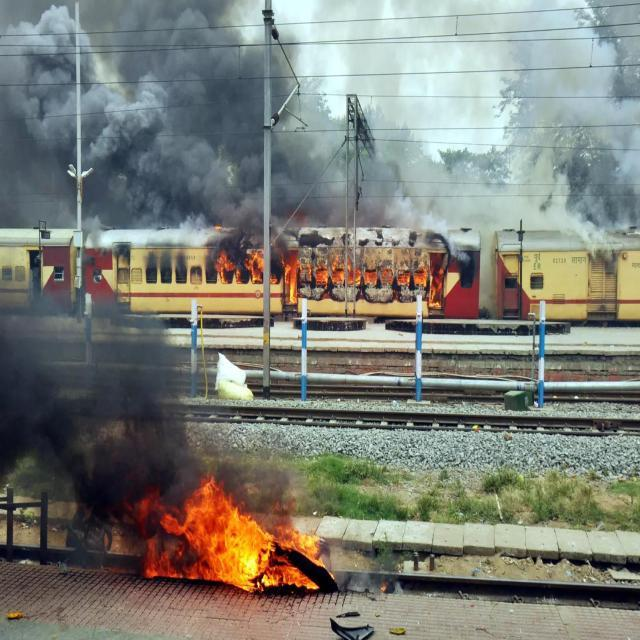Fire: (195, 481, 323, 594)
Smoke: (409, 162, 566, 233), (512, 5, 600, 106)
